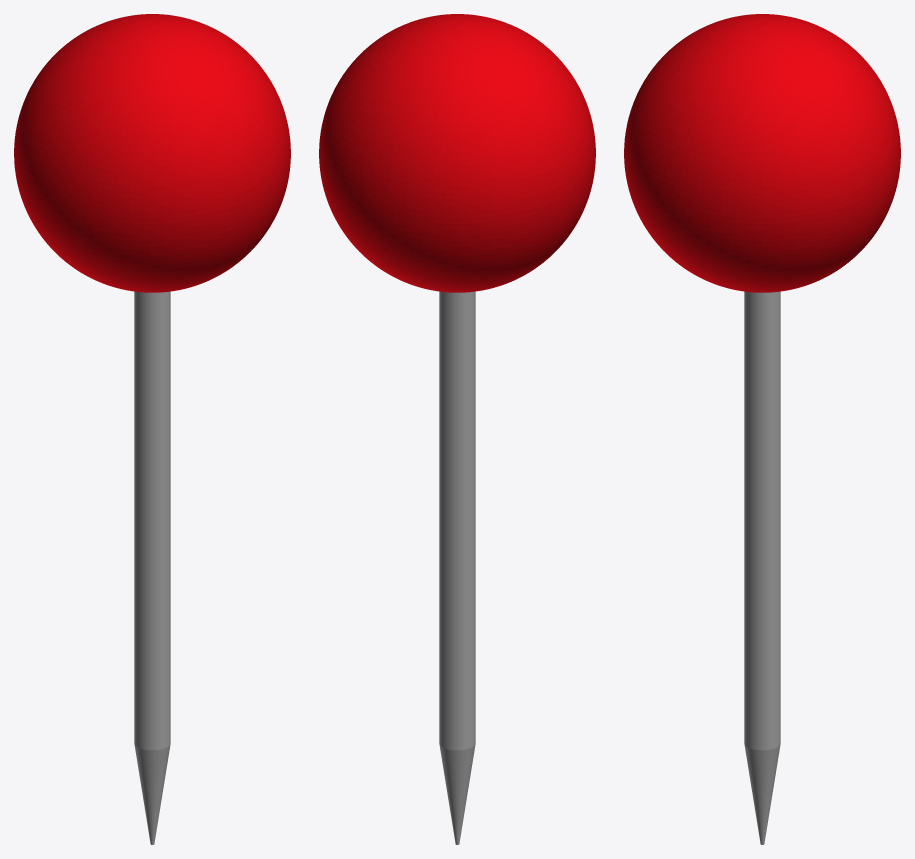
Rendered from LPin.glb.
The picture shows the model from 3 angles, left to right: view 1: azimuth 30°, elevation 25°; view 2: azimuth 150°, elevation 25°; view 3: azimuth 270°, elevation 25°; orthographic projection.
Parts seen in each view (by area): view 1: Sphere, Cylinder; view 2: Sphere, Cylinder; view 3: Sphere, Cylinder.
Boxes of the visible parts, x1,y1,x2,y2 form: Sphere: [14, 14, 290, 292]; Cylinder: [134, 291, 170, 844]; Sphere: [319, 14, 595, 292]; Cylinder: [439, 291, 475, 844]; Sphere: [624, 14, 900, 292]; Cylinder: [744, 291, 780, 844].
Size of the model in its own units: 1.97 by 6.41 by 1.97.
